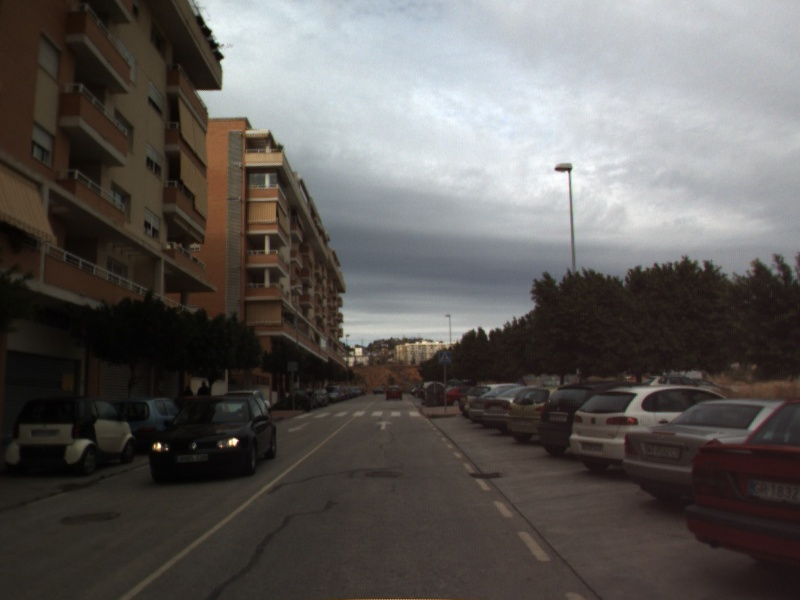STRAIGHT: (374, 418, 394, 431)
